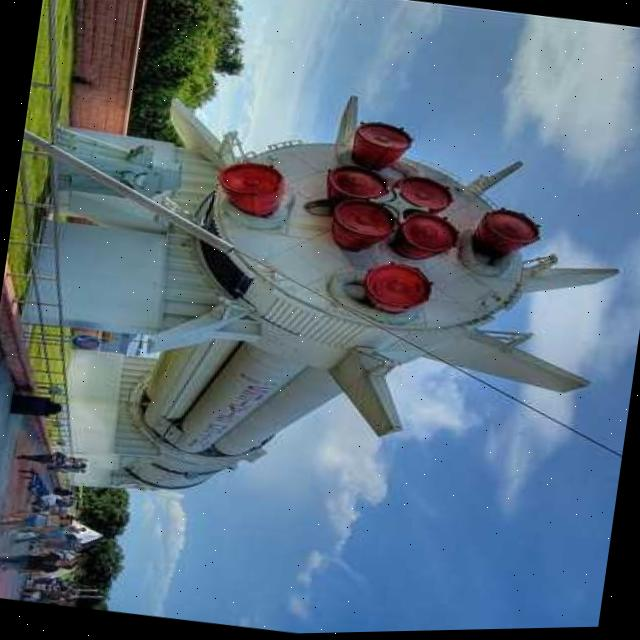missile: (126, 74, 622, 553)
